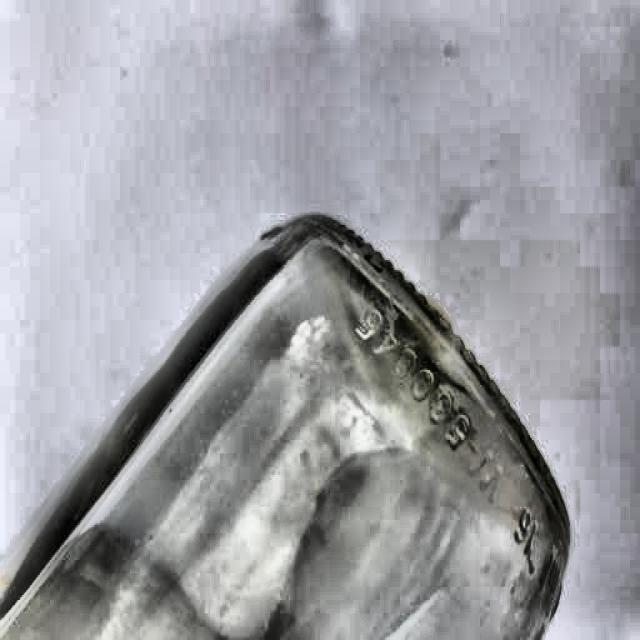glass: (2, 218, 569, 640)
